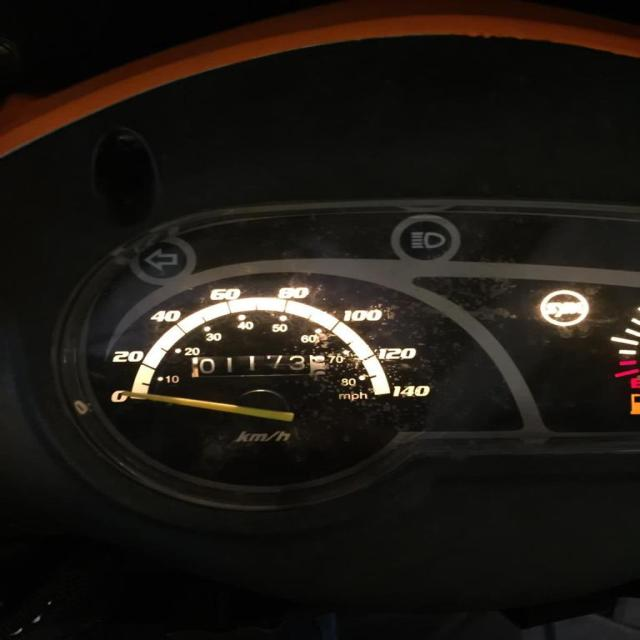odometer: (187, 353, 328, 379)
